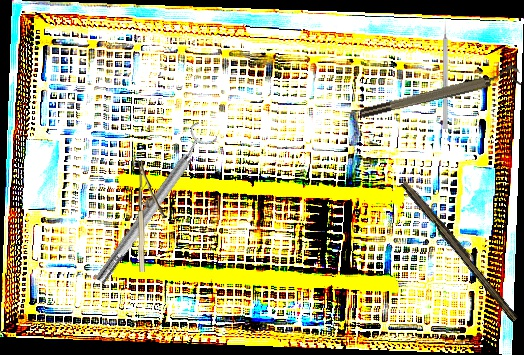Fixation Ring: (86, 120, 220, 290), (357, 62, 523, 122)
Hook Surgical: (443, 17, 448, 129)
Needle Holder: (136, 159, 166, 273)
Scalpel Handle: (398, 178, 523, 323)
